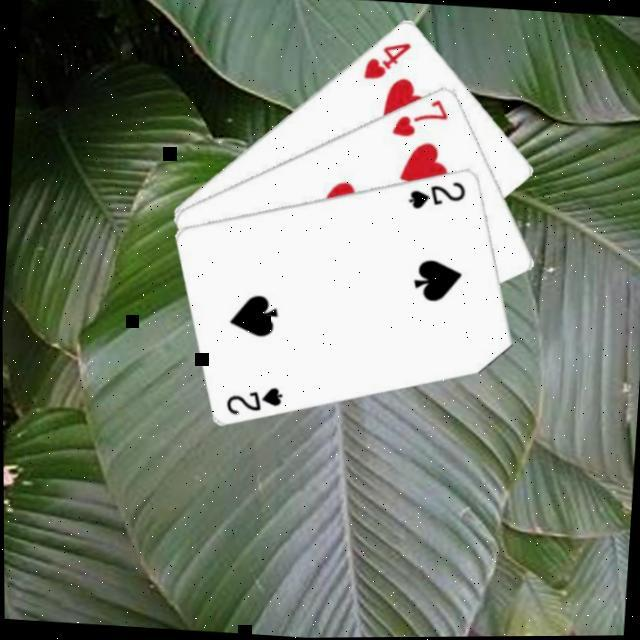2S: (406, 176, 470, 216), (223, 382, 287, 422)
4H: (361, 37, 416, 87)
7H: (389, 94, 454, 144)
